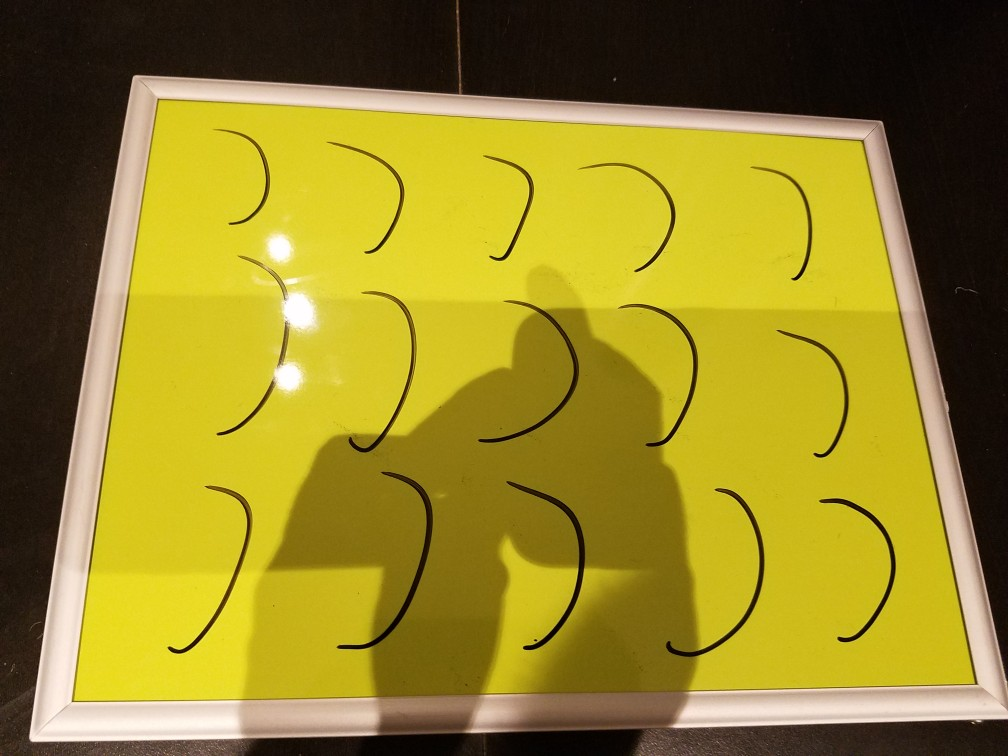): (144, 469, 282, 662), (657, 473, 786, 666), (462, 287, 592, 460), (333, 464, 440, 660), (195, 250, 294, 444), (493, 469, 592, 656), (804, 483, 912, 653), (329, 273, 421, 459), (613, 289, 706, 469), (766, 306, 865, 470), (574, 146, 691, 279), (720, 146, 830, 287), (316, 127, 417, 265), (459, 133, 552, 279), (205, 123, 280, 228)
